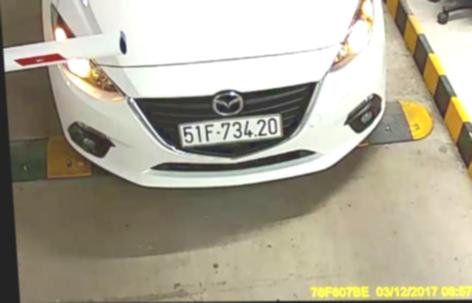License_Plate: (178, 117, 283, 144)
